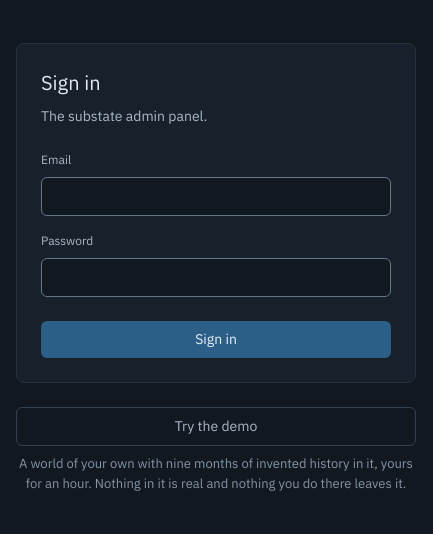
Test: the sentence a refusal produces › gives being rate limited its own sentence, and says that waiting helps
Type "operator@example.com" into the field labelled "Email" at (216, 196), box [41,177,391,216]
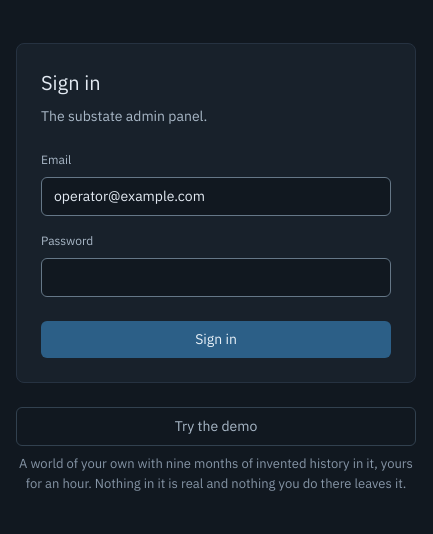
Type "correct horse battery staple" into the password field labelled "Password" at (216, 278), box [41,258,391,297]
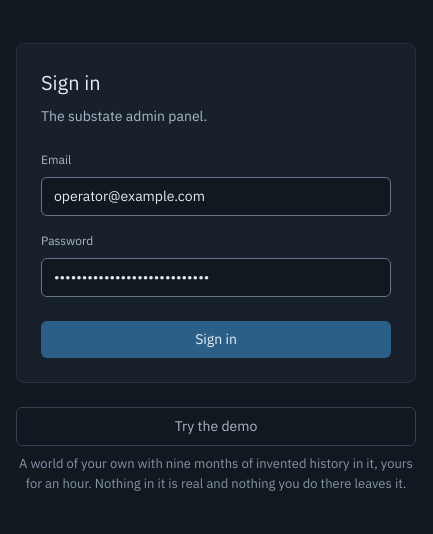
Submit the form, box [16,43,416,383]
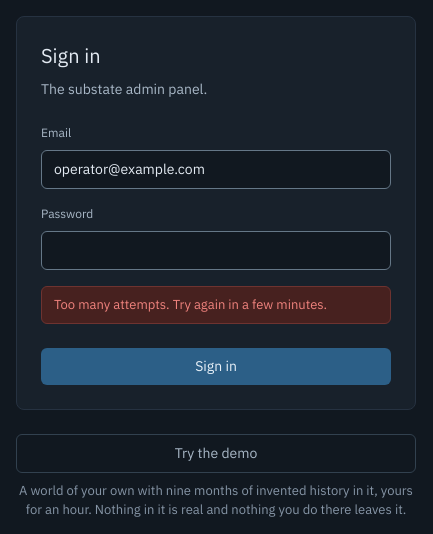
Check: the message "Too many attempts. Try again in a few minutes." is shown, box [41,286,391,324]
